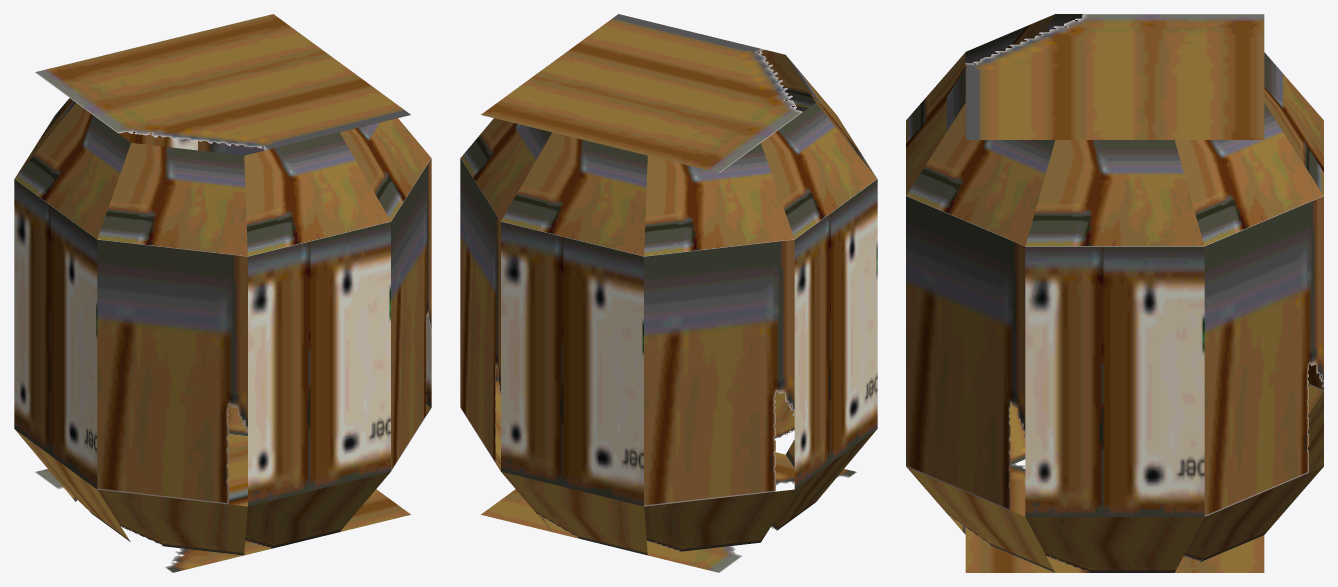
Rendered from alfalfa_seed_barrel.obj.
The picture shows the model from 3 angles, left to right: view 1: azimuth 30°, elevation 25°; view 2: azimuth 150°, elevation 25°; view 3: azimuth 270°, elevation 25°; orthographic projection. The views are drawn at different scales.
Size of the model in its own units: 0.875 by 1 by 0.875.
